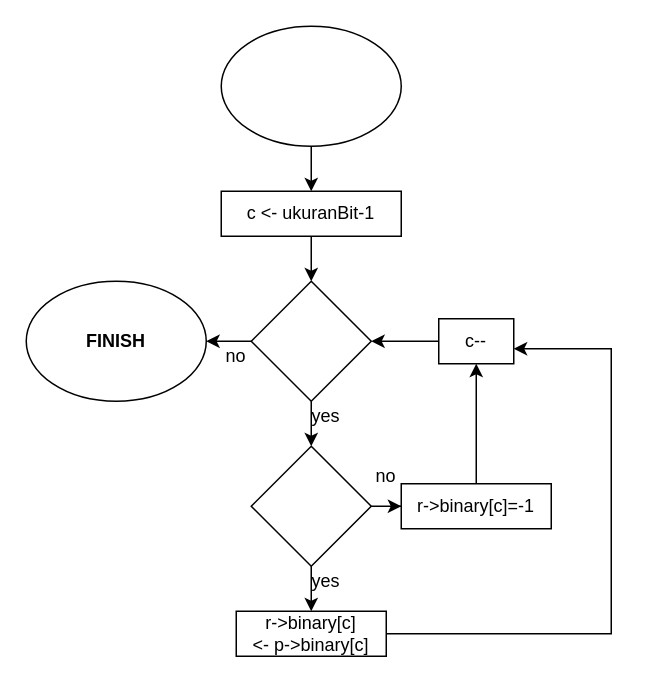
The diagram is 650 pixels wide and 683 high, and some of its shapes have lost their labels. The centre of each missing label's shape, as x and y in pixels:
c != -1 ?: the point at 310,340
p-> binary[c] == q-> binary[c]: the point at 310,505
START: the point at 310,85
